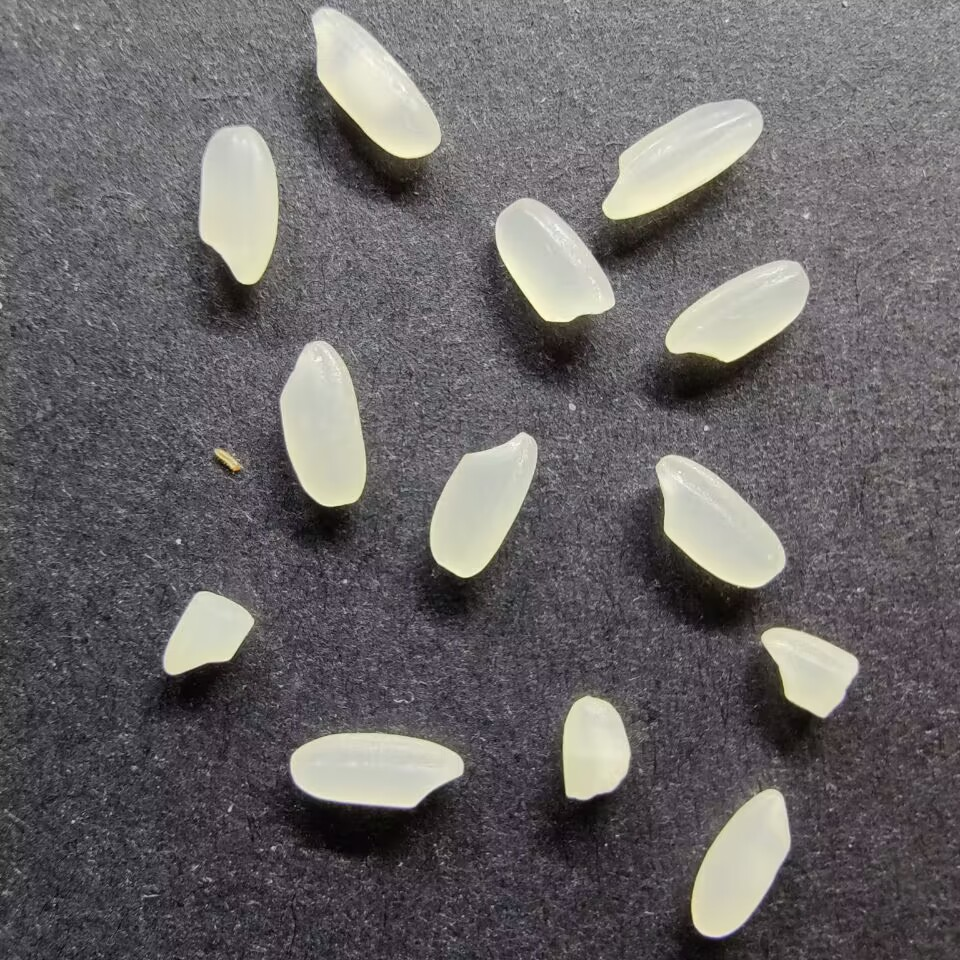broken: (757, 625, 860, 720), (160, 588, 258, 678), (561, 692, 629, 800)
others: (208, 444, 246, 475)
rice: (305, 4, 443, 159), (599, 96, 764, 221), (651, 453, 787, 592), (427, 428, 539, 579), (688, 784, 793, 939), (493, 197, 617, 324), (663, 259, 812, 364), (277, 339, 369, 509), (287, 731, 466, 811), (196, 124, 279, 286)
